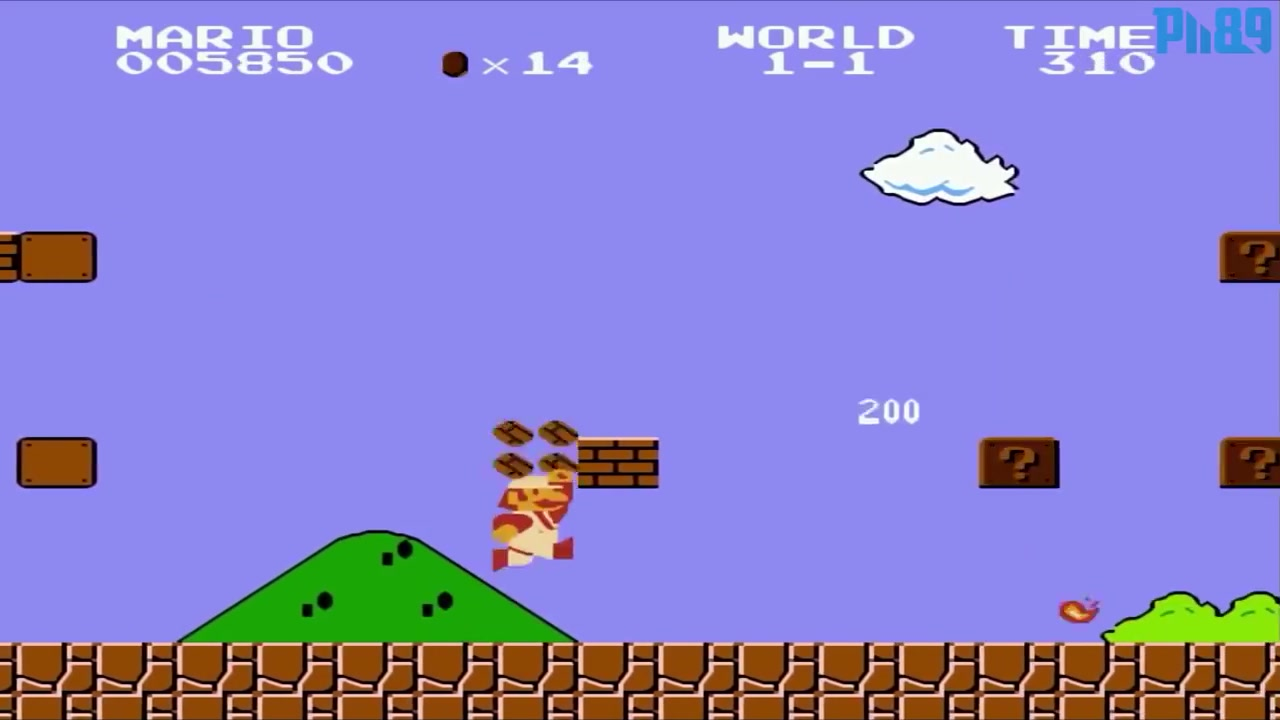mario: (486, 465, 582, 576)
